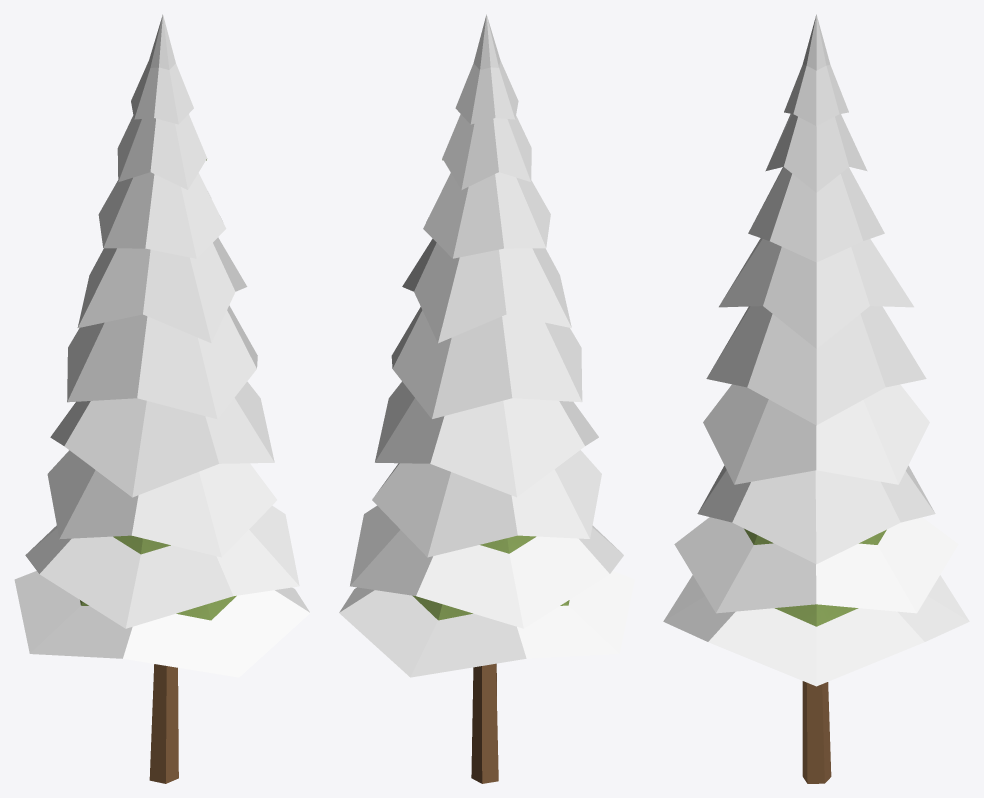
Rendered from Pine_Tree_l_Snow_01.fbx.
3 views of the same model, side by side, from view 1: azimuth 30°, elevation 25°; view 2: azimuth 150°, elevation 25°; view 3: azimuth 270°, elevation 25° (orthographic).
Visible parts, largest first — view 1: Pine_Tree_l_Snow_01; view 2: Pine_Tree_l_Snow_01; view 3: Pine_Tree_l_Snow_01.
Boxes of the visible parts, <box> form: Pine_Tree_l_Snow_01: <box>14,14,309,783</box>; Pine_Tree_l_Snow_01: <box>339,14,634,783</box>; Pine_Tree_l_Snow_01: <box>663,14,969,783</box>.
Bounding box in the file's own units: 718 × 1975 × 718.
